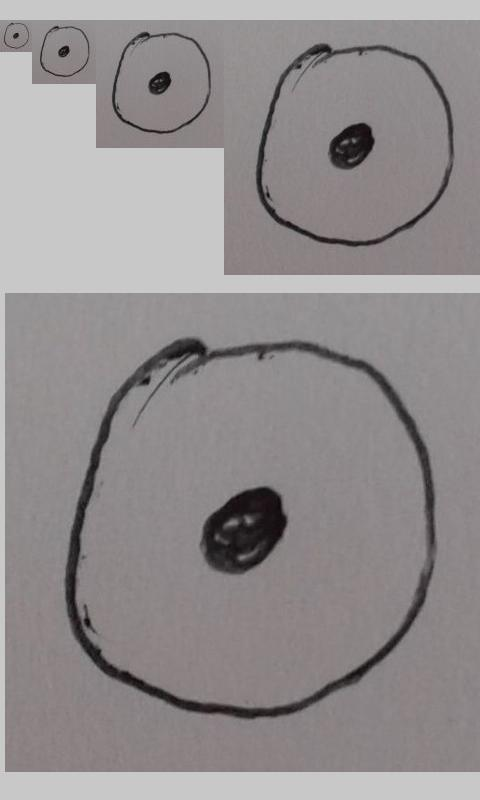radio_button: (63, 334, 438, 720), (253, 40, 457, 250), (111, 31, 213, 134), (39, 25, 90, 78), (3, 22, 30, 49)
